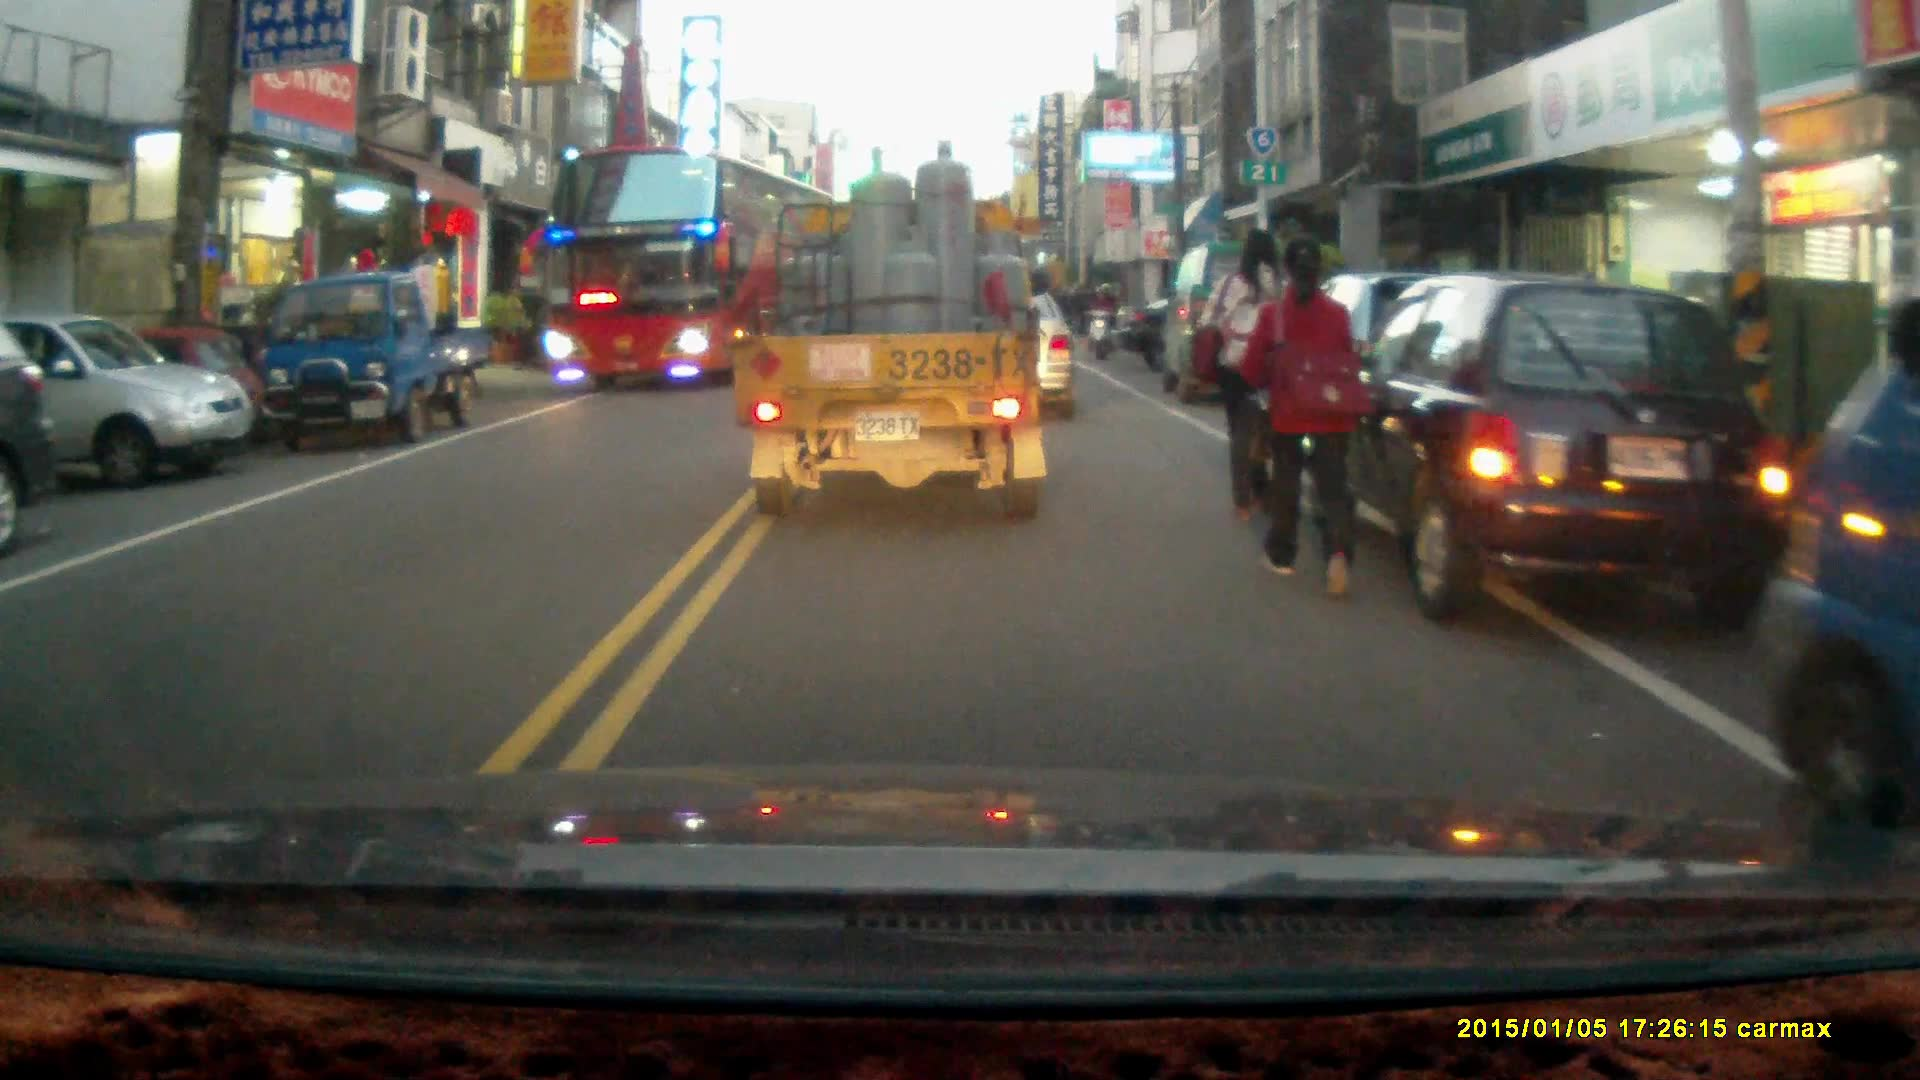pedestrian: (1242, 229, 1368, 598), (1206, 228, 1309, 528)
rider: (1085, 279, 1123, 363)
vehicle: (1322, 272, 1792, 636), (735, 142, 1056, 529), (542, 143, 838, 397), (1, 312, 255, 496), (259, 275, 495, 443)
